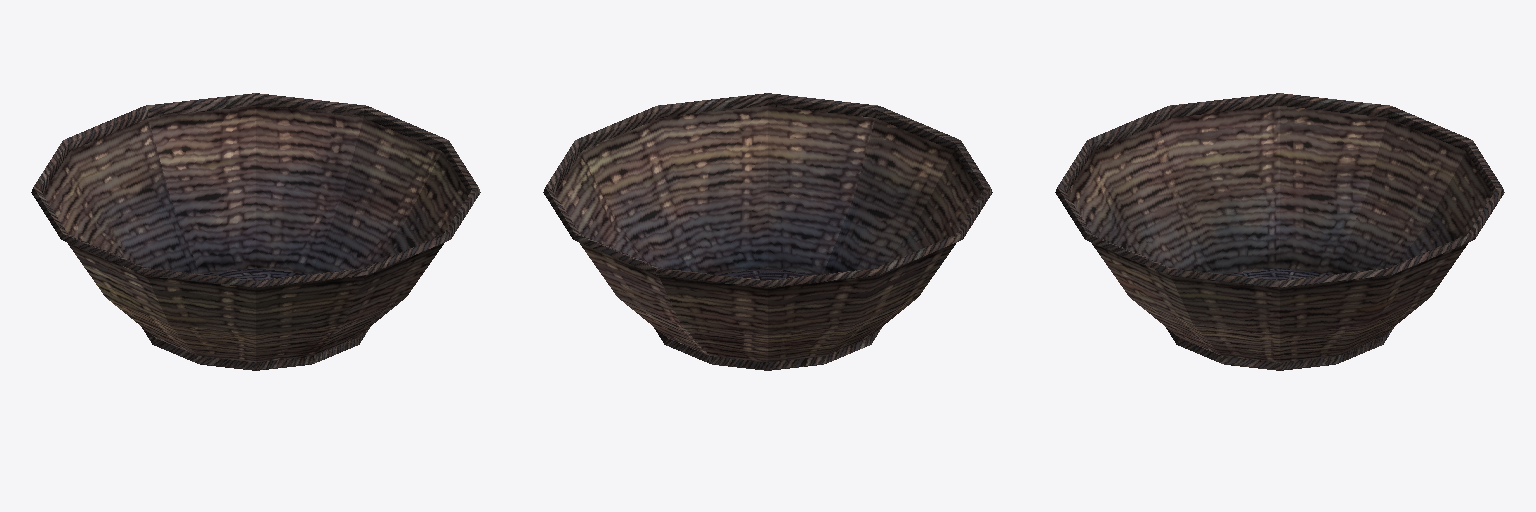
The picture shows the model from 3 angles: view 1: azimuth 30°, elevation 25°; view 2: azimuth 150°, elevation 25°; view 3: azimuth 270°, elevation 25°; orthographic projection.
Parts seen in each view (by area): view 1: willow_basket_shallow_willow_basket_shallow; view 2: willow_basket_shallow_willow_basket_shallow; view 3: willow_basket_shallow_willow_basket_shallow.
Boxes of the visible parts, x1=… form: willow_basket_shallow_willow_basket_shallow: x1=31, y1=93, x2=480, y2=370; willow_basket_shallow_willow_basket_shallow: x1=543, y1=93, x2=992, y2=370; willow_basket_shallow_willow_basket_shallow: x1=1055, y1=93, x2=1504, y2=370.
Size of the model in its own units: 0.6113 by 0.2065 by 0.6113.
Materials: 1 (1 with a texture image).